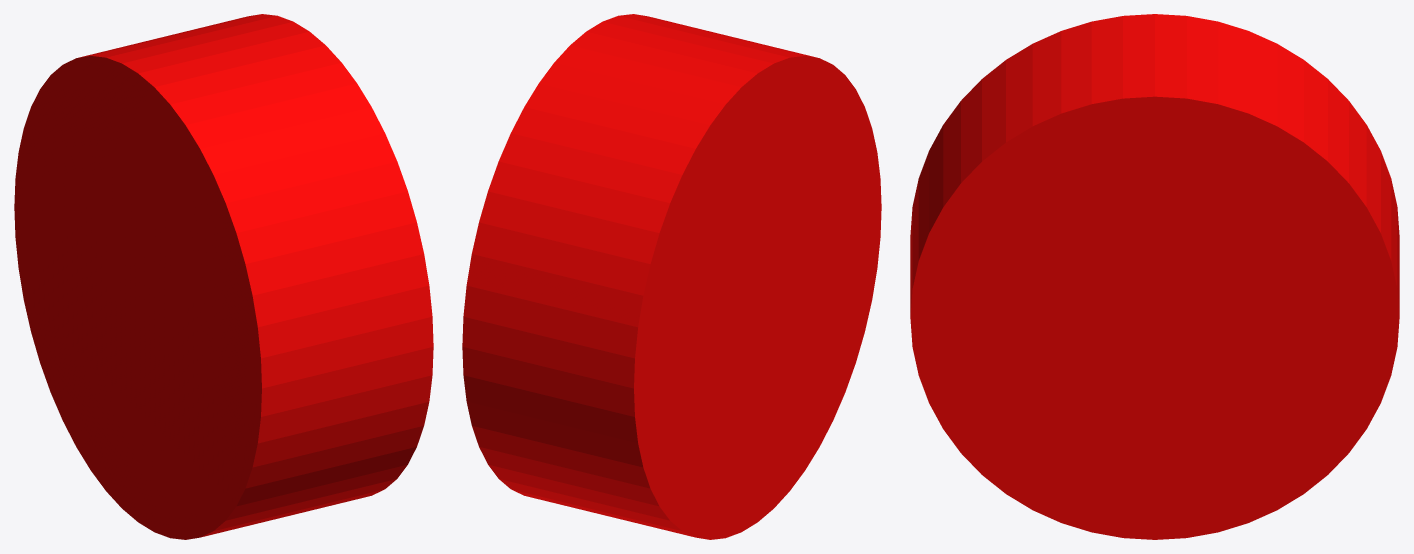
Rendered from status_light_error_p.obj.
The picture shows the model from 3 angles, left to right: view 1: azimuth 30°, elevation 25°; view 2: azimuth 150°, elevation 25°; view 3: azimuth 270°, elevation 25°; orthographic projection.
Visible parts, largest first — view 1: led.001; view 2: led.001; view 3: led.001.
Boxes of the visible parts, x1,y1,x2,y2 form: led.001: (14,14,433,539); led.001: (462,14,881,539); led.001: (910,14,1399,539).
Size of the model in its own units: 0.02 by 0.05 by 0.05.
